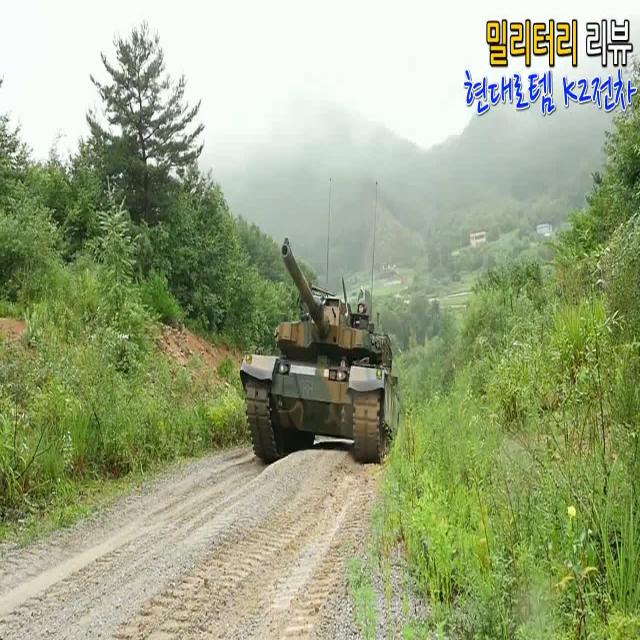korea tank: (238, 236, 400, 466)
